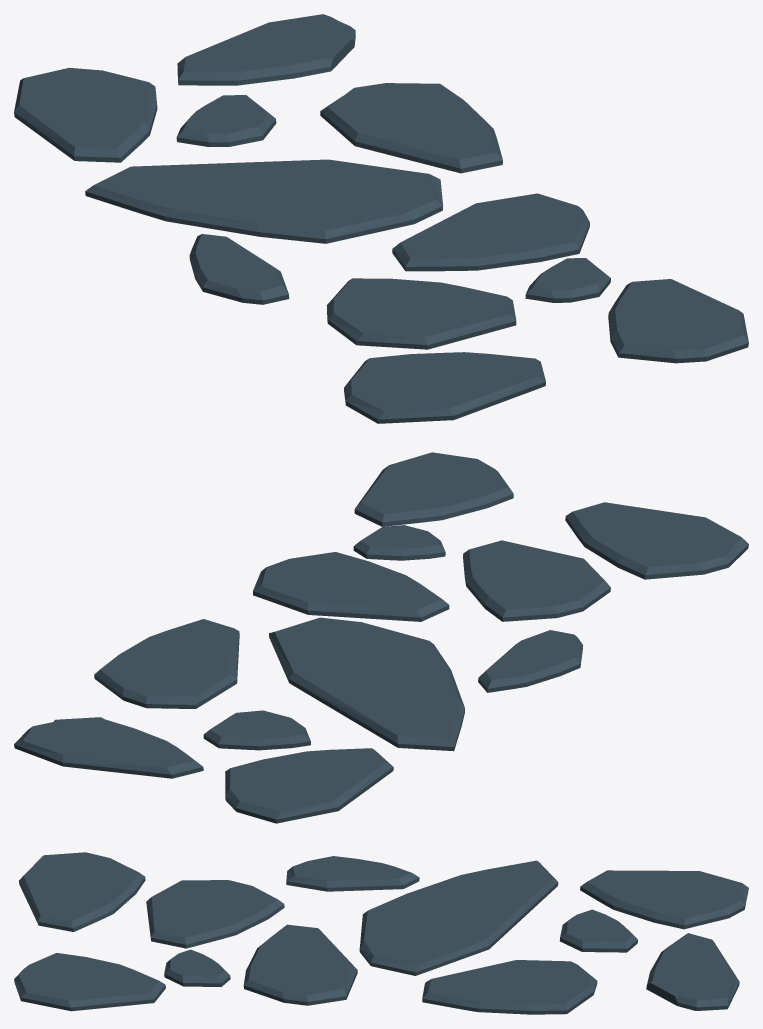
File: sm_enc_PathStones01.fbx
3 renders of one model, top to bottom at view 1: azimuth 30°, elevation 25°; view 2: azimuth 150°, elevation 25°; view 3: azimuth 270°, elevation 25°, orthographic. The views are drawn at different scales.
Parts seen in each view (by area): view 1: Path_Stones01; view 2: Path_Stones01; view 3: Path_Stones01.
Part boxes in pixels (x1,y1,x2,y2): Path_Stones01: (14, 14, 748, 423); Path_Stones01: (14, 452, 748, 823); Path_Stones01: (14, 852, 748, 1014).
Size of the model in its own units: 197 by 4.91 by 392.
